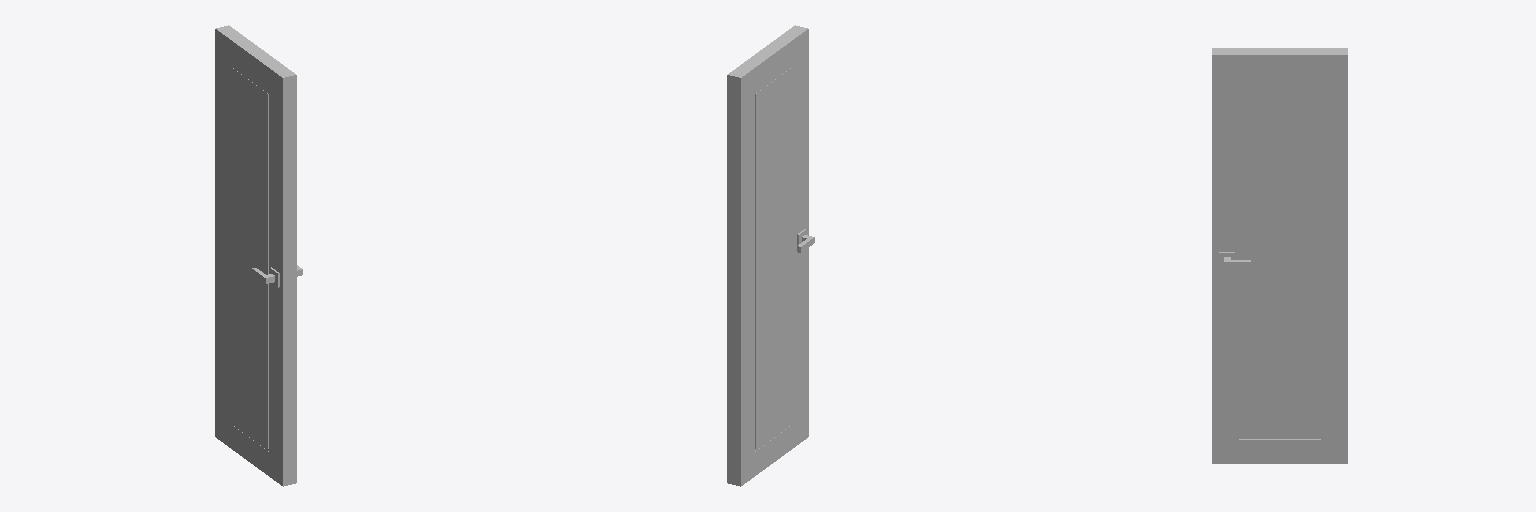
File: door603_beige.obj
3 renders of one model, left to right at view 1: azimuth 30°, elevation 25°; view 2: azimuth 150°, elevation 25°; view 3: azimuth 270°, elevation 25°, orthographic.
Visible parts, largest first — view 1: Cube; view 2: Cube; view 3: Cube.
Part boxes in pixels (left/top/right/bottom): Cube: left=215, top=25, right=302, bottom=486; Cube: left=727, top=25, right=814, bottom=486; Cube: left=1212, top=48, right=1347, bottom=463.
Bounding box in the file's own units: 0.1899 × 2 × 0.5999.